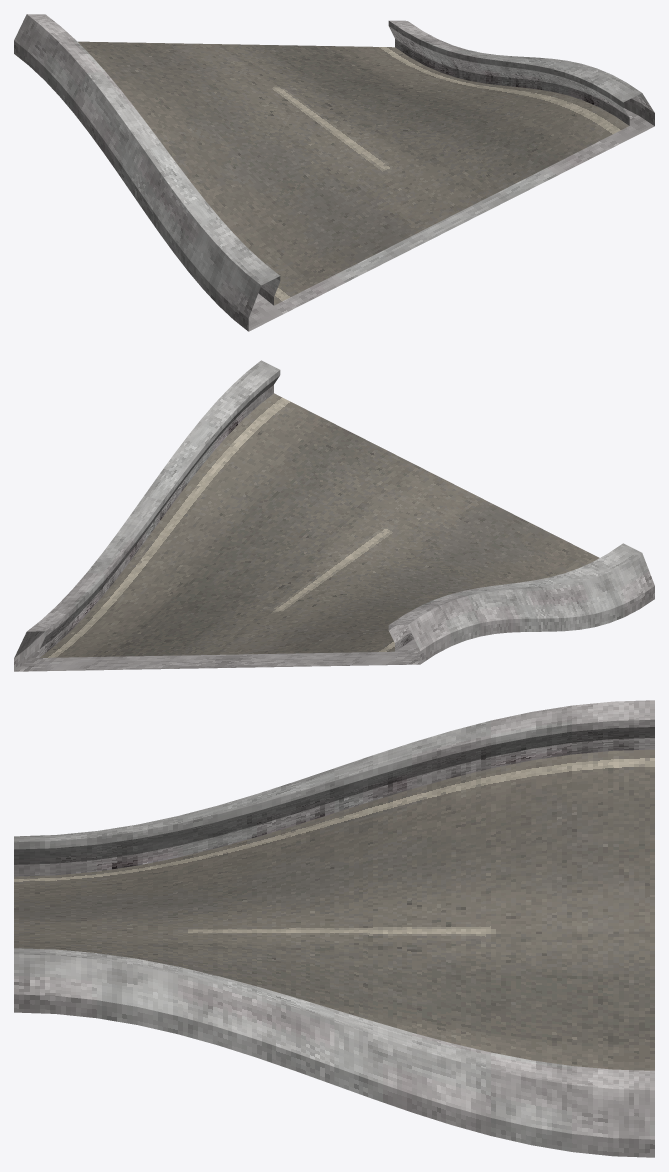
Rendered from road-Straight-HalfBankedLeft-HalfBankedRight-Even-Center-Size1.glb.
3 views of the same model, one above another, from view 1: azimuth 30°, elevation 25°; view 2: azimuth 150°, elevation 25°; view 3: azimuth 270°, elevation 25° (orthographic). The views are drawn at different scales.
Parts seen in each view (by area): view 1: road-Straight-HalfBankedLeft-HalfBankedRight-Even-Center-Siz; view 2: road-Straight-HalfBankedLeft-HalfBankedRight-Even-Center-Siz; view 3: road-Straight-HalfBankedLeft-HalfBankedRight-Even-Center-Siz.
Boxes of the visible parts, x1,y1,x2,y2 form: road-Straight-HalfBankedLeft-HalfBankedRight-Even-Center-Siz: [14, 14, 654, 331]; road-Straight-HalfBankedLeft-HalfBankedRight-Even-Center-Siz: [14, 360, 654, 671]; road-Straight-HalfBankedLeft-HalfBankedRight-Even-Center-Siz: [14, 700, 654, 1157].
Size of the model in its own units: 1 by 0.3359 by 1.
2 materials, 2 textured.
